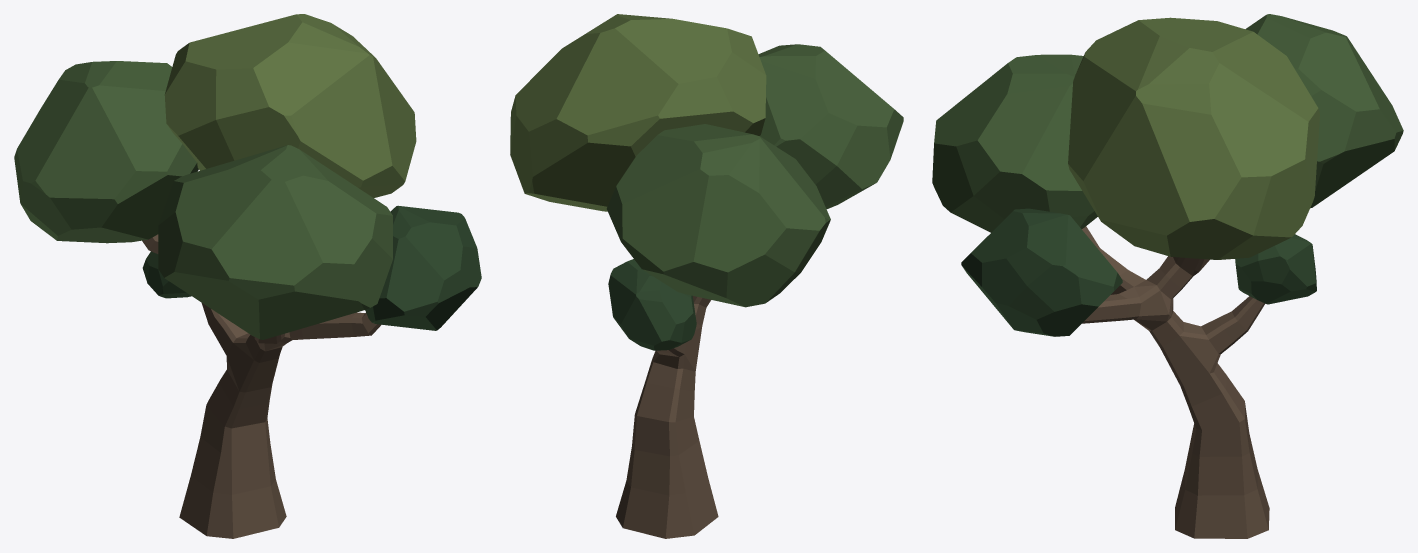
Rendered from BigTree.fbx.
3 renders of one model, left to right at view 1: azimuth 30°, elevation 25°; view 2: azimuth 150°, elevation 25°; view 3: azimuth 270°, elevation 25°, orthographic. The views are drawn at different scales.
Parts seen in each view (by area): view 1: Cube.002; view 2: Cube.002; view 3: Cube.002.
Part boxes in pixels (x1,y1,x2,y2): Cube.002: [14, 14, 481, 538]; Cube.002: [510, 14, 903, 538]; Cube.002: [932, 14, 1403, 538].
Bounding box in the file's own units: 322 × 433 × 372.
